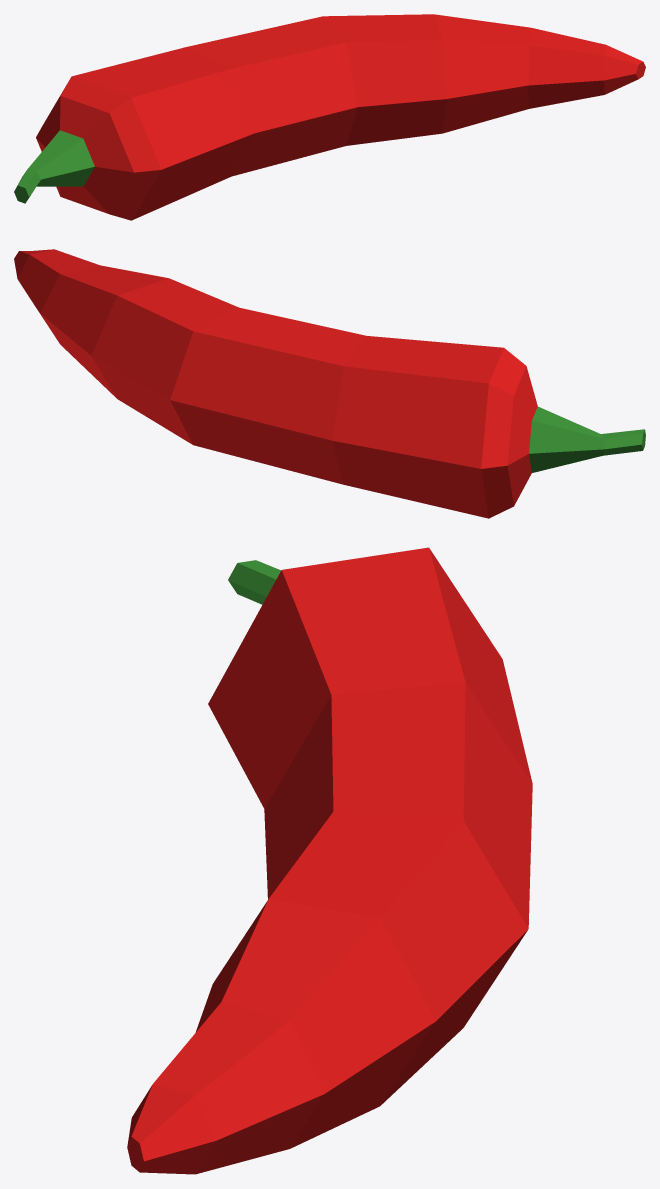
File: chili.fbx
3 renders of one model, top to bottom at view 1: azimuth 30°, elevation 25°; view 2: azimuth 150°, elevation 25°; view 3: azimuth 270°, elevation 25°, orthographic. The views are drawn at different scales.
Parts seen in each view (by area): view 1: Cylinder.048; view 2: Cylinder.048; view 3: Cylinder.048.
Boxes of the visible parts, x1,y1,x2,y2 form: Cylinder.048: (14, 14, 645, 220); Cylinder.048: (14, 249, 645, 518); Cylinder.048: (127, 547, 532, 1174).
Bounding box in the file's own units: 14.13 × 2.76 × 4.12.
